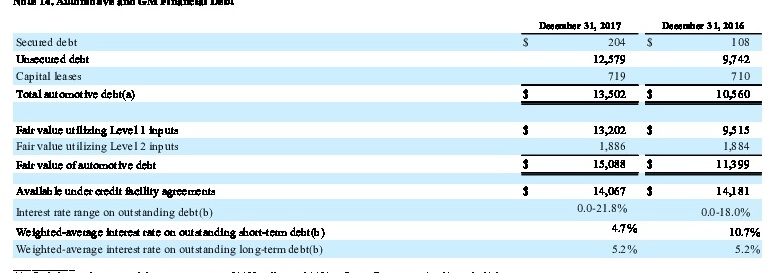table: (0, 0, 779, 273)
